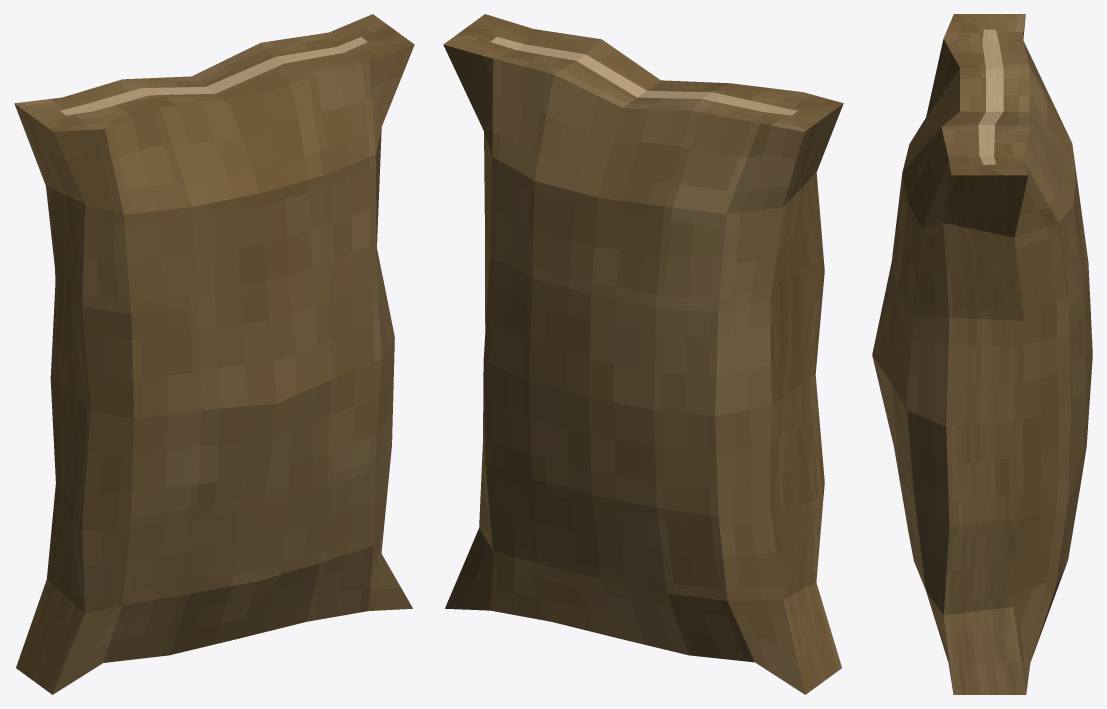
Rendered from Sack1.glb.
3 views of the same model, side by side, from view 1: azimuth 30°, elevation 25°; view 2: azimuth 150°, elevation 25°; view 3: azimuth 270°, elevation 25° (orthographic). The views are drawn at different scales.
Visible parts, largest first — view 1: Cube; view 2: Cube; view 3: Cube.
Boxes of the visible parts, x1,y1,x2,y2 form: Cube: (14,14,414,694); Cube: (443,14,843,694); Cube: (872,14,1092,694).
Bounding box in the file's own units: 0.218 × 0.3269 × 0.1258.
Materials: 2 (2 with a texture image).
